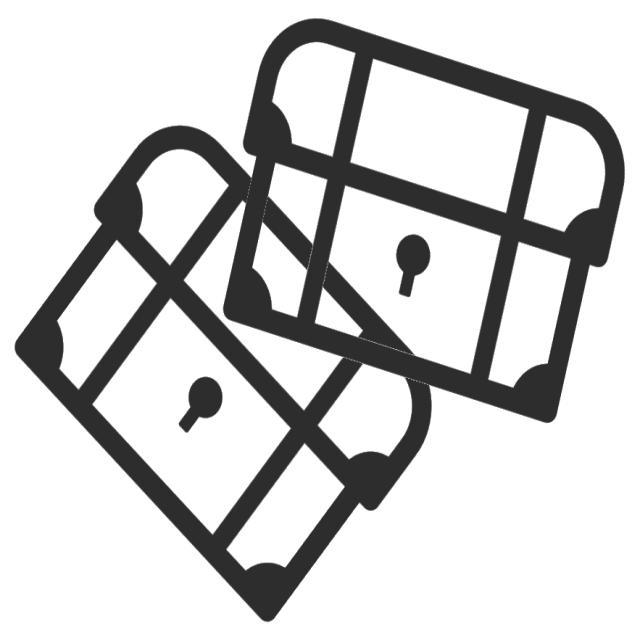treasure_box: (9, 117, 439, 627), (218, 13, 631, 436)
